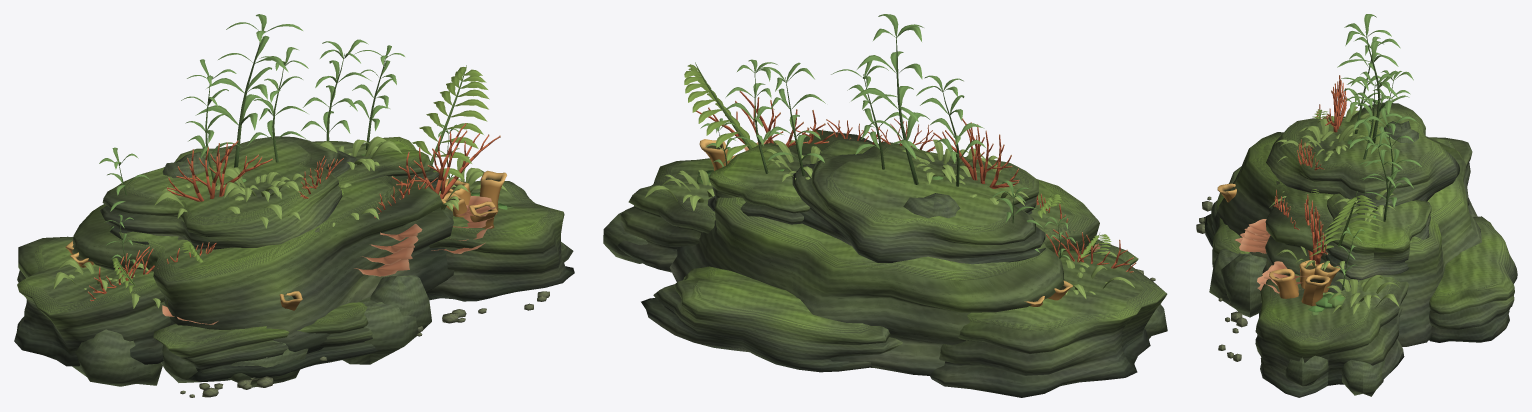
File: tidegarden.glb
The picture shows the model from 3 angles, left to right: view 1: azimuth 30°, elevation 25°; view 2: azimuth 150°, elevation 25°; view 3: azimuth 270°, elevation 25°; orthographic projection. The views are drawn at different scales.
Parts seen in each view (by area): view 1: Algae limestone, Kelp laminae, Sea fan and cup coral, Ochre sponge; view 2: Algae limestone, Kelp laminae, Sea fan and cup coral, Ochre sponge; view 3: Algae limestone, Kelp laminae, Sea fan and cup coral, Ochre sponge.
Part boxes in pixels (x1,y1,x2,y2): Algae limestone: [14, 136, 574, 397]; Kelp laminae: [53, 14, 513, 308]; Sea fan and cup coral: [87, 123, 500, 324]; Ochre sponge: [65, 170, 506, 310]; Algae limestone: [603, 130, 1167, 397]; Kelp laminae: [645, 14, 1134, 298]; Sea fan and cup coral: [695, 91, 1136, 272]; Ochre sponge: [699, 139, 1072, 306]; Algae limestone: [1196, 102, 1517, 397]; Kelp laminae: [1269, 14, 1421, 315]; Sea fan and cup coral: [1235, 75, 1346, 293]; Ochre sponge: [1217, 183, 1340, 305].
Bounding box in the file's own units: 7.33 × 4.08 × 4.41.
4 materials, 1 textured.
